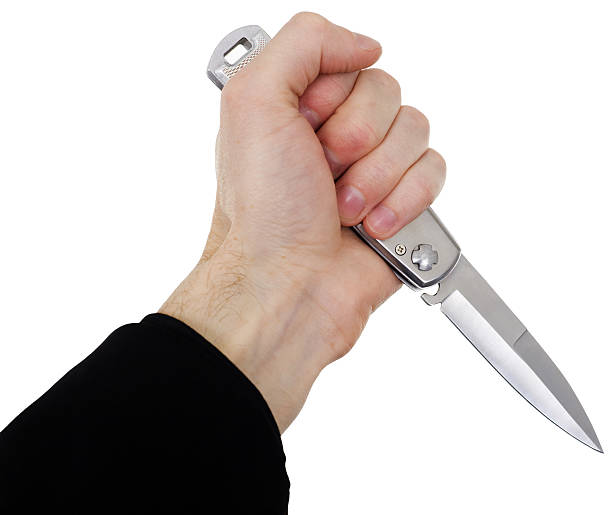knife: (355, 203, 605, 457)
